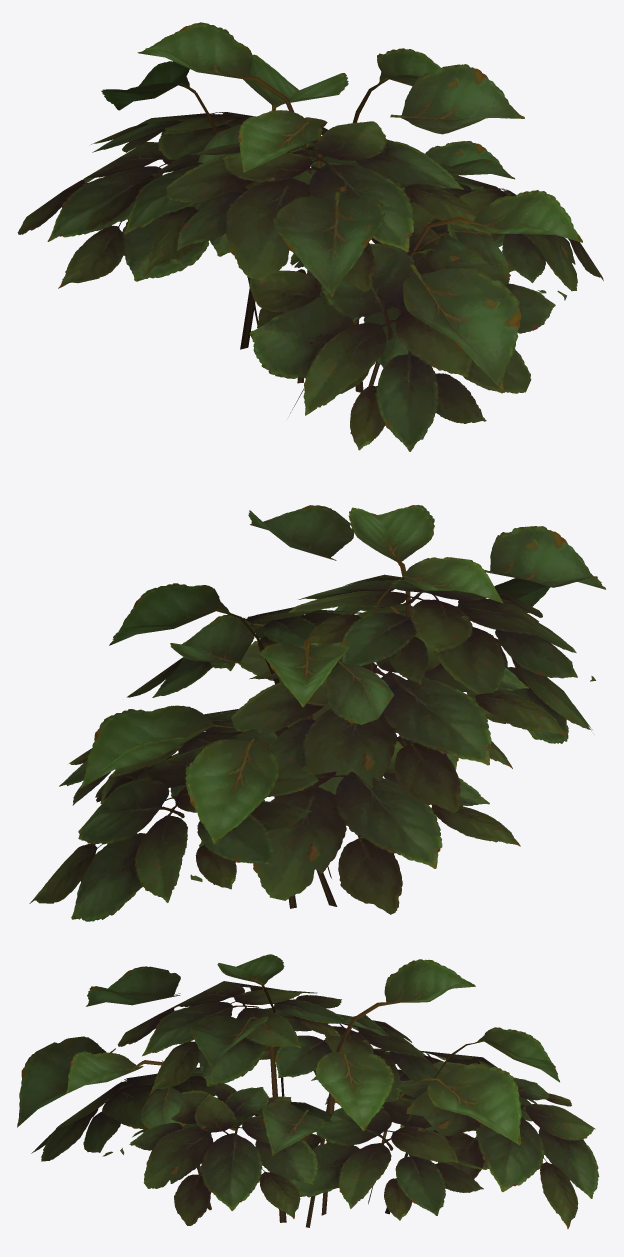
3 renders of one model, top to bottom at view 1: azimuth 30°, elevation 25°; view 2: azimuth 150°, elevation 25°; view 3: azimuth 270°, elevation 25°, orthographic. The views are drawn at different scales.
Bounding box in the file's own units: 3.26 × 2.04 × 4.62.
1 material, 1 textured.
